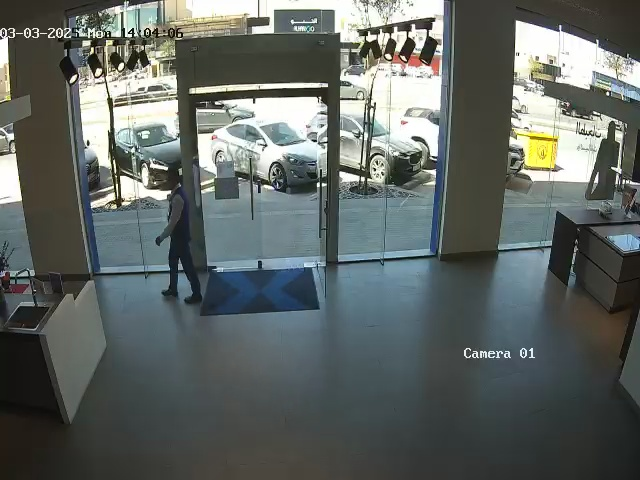employee: (154, 166, 203, 305)
